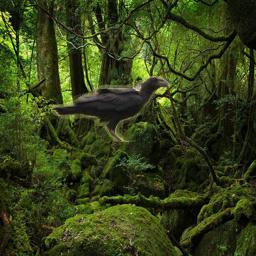Crow: (51, 76, 170, 142)
